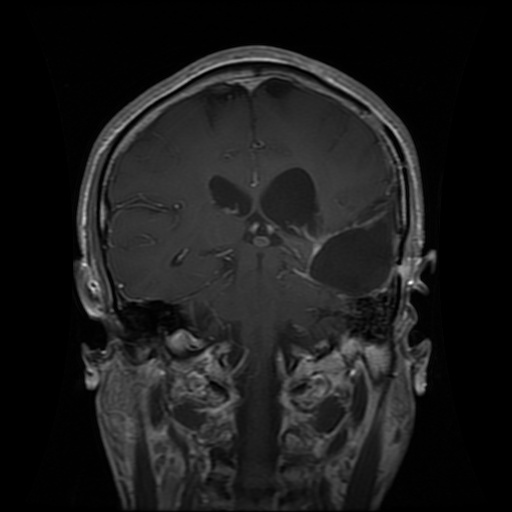glioma: (257, 166, 403, 300)
